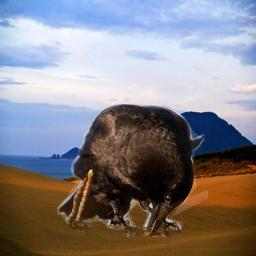Crow: (56, 102, 208, 237)
